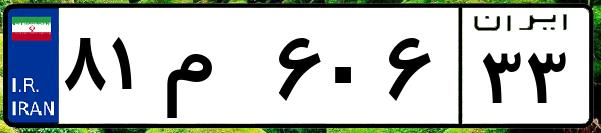0: (330, 28, 385, 110)
1: (110, 28, 158, 98)
3: (475, 38, 525, 113), (525, 38, 570, 115)
6: (270, 28, 330, 110), (385, 28, 445, 110)
8: (57, 26, 110, 100)
م: (158, 20, 270, 120)
